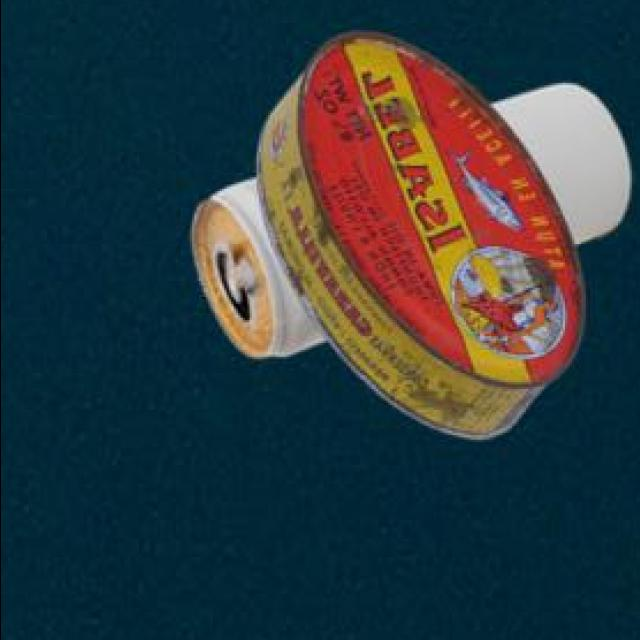logam: (252, 29, 581, 436), (188, 82, 625, 353)
